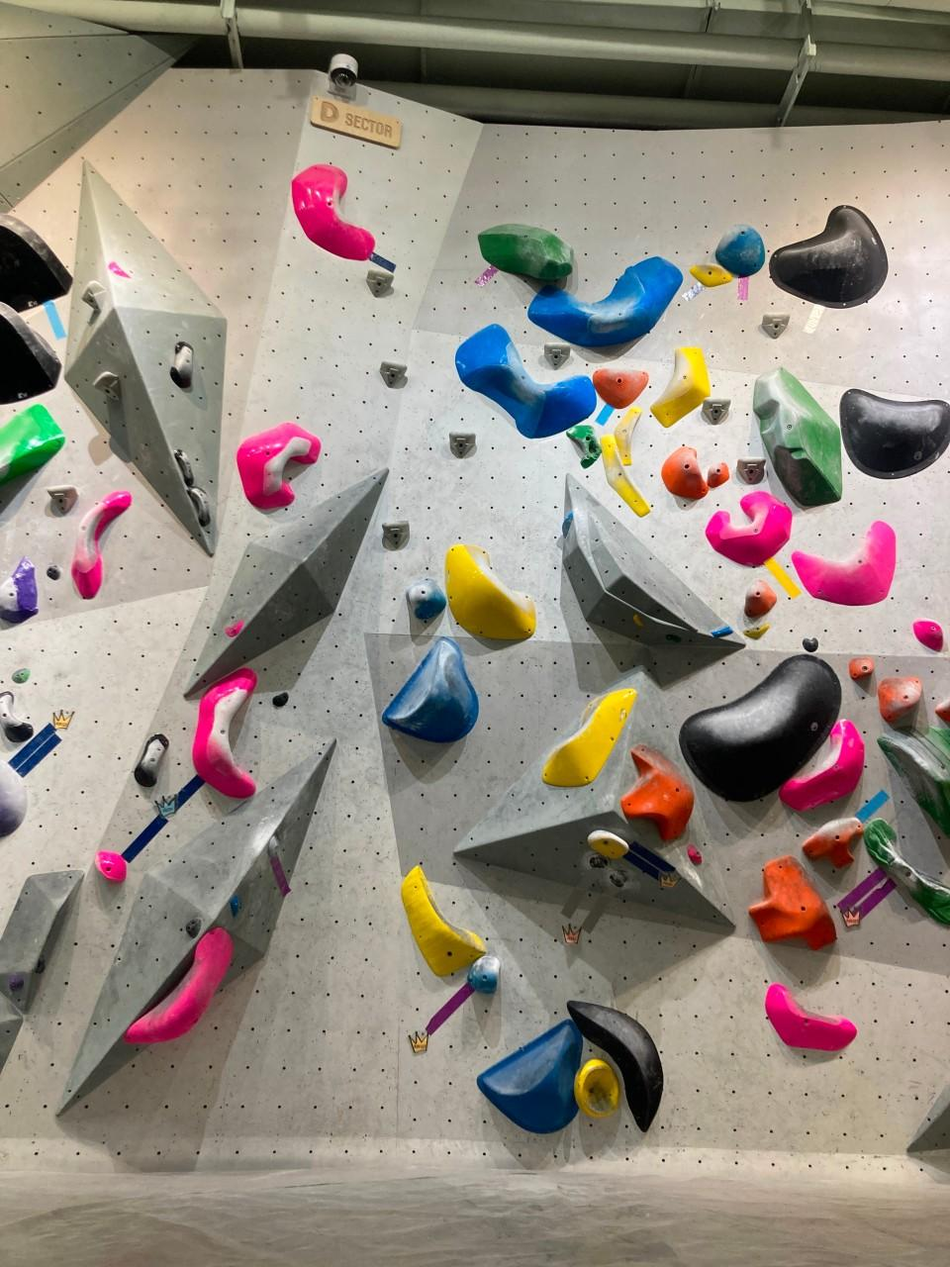hold: (679, 653, 840, 801), (455, 325, 597, 438), (527, 257, 683, 347), (125, 927, 233, 1044), (769, 205, 888, 309), (568, 1002, 663, 1131), (753, 368, 840, 507), (477, 1019, 582, 1133), (383, 637, 478, 742), (839, 389, 949, 479), (542, 689, 636, 787), (402, 866, 485, 974), (863, 821, 949, 925), (792, 521, 896, 605), (445, 543, 535, 640), (192, 668, 255, 797), (749, 856, 835, 949), (292, 164, 374, 259), (780, 720, 864, 811), (237, 423, 321, 511), (879, 731, 949, 835), (0, 214, 72, 312), (620, 744, 693, 840), (705, 491, 792, 567), (71, 492, 130, 597), (766, 984, 856, 1051), (0, 307, 59, 404), (478, 224, 572, 284), (0, 403, 64, 485), (650, 347, 710, 427), (601, 436, 650, 516), (802, 817, 863, 869), (908, 1086, 949, 1152), (715, 225, 765, 277), (0, 556, 38, 624), (575, 1059, 618, 1117), (661, 447, 707, 499), (593, 367, 648, 409), (878, 676, 921, 727), (0, 759, 27, 837), (134, 733, 168, 787), (0, 692, 34, 742), (613, 405, 641, 465), (407, 580, 445, 622), (565, 423, 601, 467), (467, 955, 500, 994), (744, 580, 776, 618), (588, 829, 628, 859), (170, 342, 193, 389), (95, 850, 127, 883), (93, 370, 121, 404), (691, 264, 733, 286), (170, 448, 193, 486), (48, 488, 77, 517), (913, 620, 940, 651), (736, 458, 766, 484), (81, 281, 103, 316), (383, 522, 409, 550), (189, 486, 207, 525), (703, 398, 730, 424), (367, 268, 393, 295), (761, 314, 789, 339), (848, 657, 874, 683), (544, 343, 570, 369), (449, 433, 475, 458), (380, 363, 405, 387), (708, 462, 729, 488), (743, 623, 769, 638), (687, 843, 701, 865), (225, 620, 243, 637), (609, 870, 626, 888), (590, 852, 608, 868), (562, 510, 573, 536), (186, 918, 200, 938), (12, 670, 30, 684), (8, 975, 23, 991), (272, 693, 288, 706), (712, 626, 732, 636), (803, 639, 817, 652), (231, 893, 238, 915), (47, 566, 57, 579), (634, 614, 643, 626)
volume: (57, 739, 338, 1112), (449, 668, 739, 930), (63, 158, 230, 557), (181, 467, 390, 699), (563, 473, 748, 649), (0, 874, 84, 1017)
